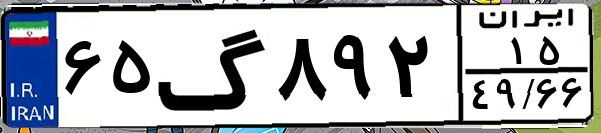1: (508, 27, 537, 80)
2: (385, 28, 445, 110)
4: (470, 70, 495, 125)
5: (110, 28, 156, 98), (537, 27, 568, 80)
6: (57, 26, 110, 100), (560, 70, 590, 125), (535, 70, 560, 125)
8: (270, 28, 330, 110)
9: (330, 28, 385, 110), (495, 70, 520, 125)
گ: (156, 12, 270, 120)
